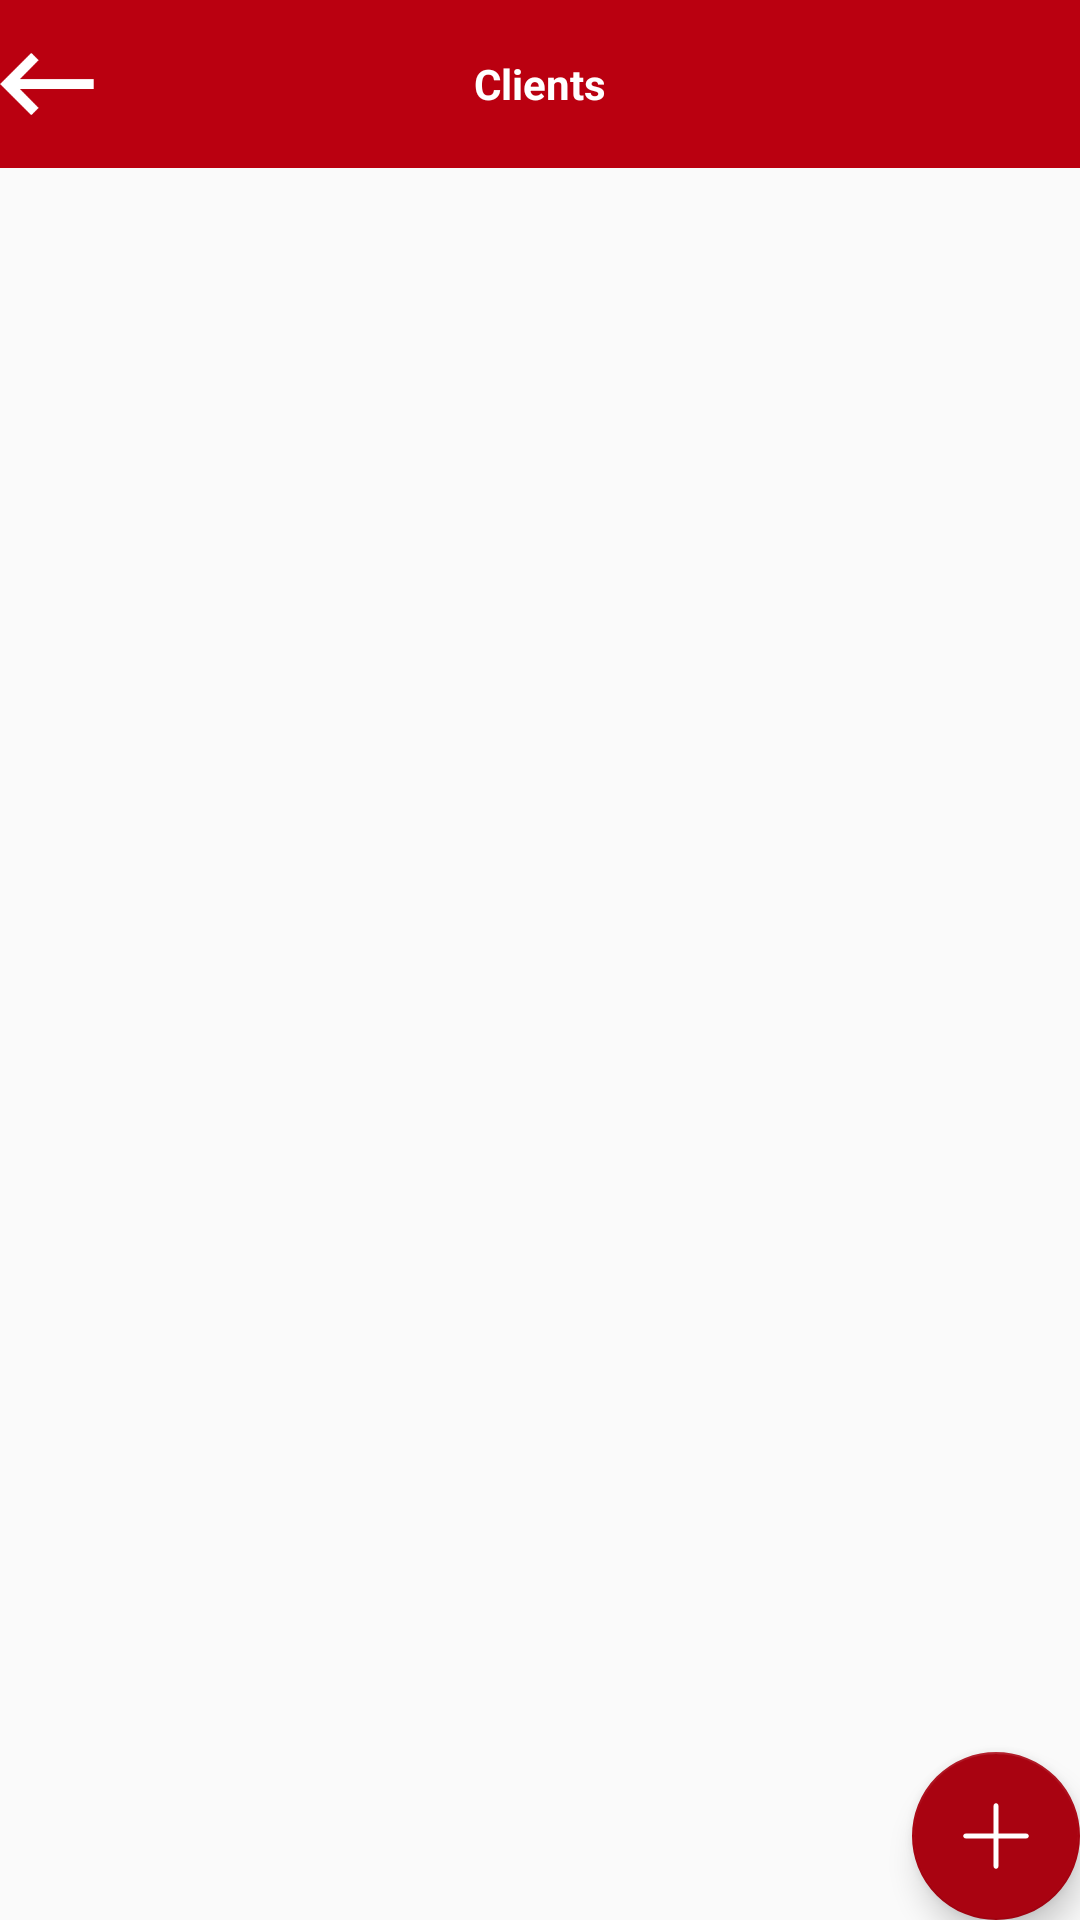

Where to tap for icons on this 1080px×1920px app screen, as point (x, y):
back: point (47, 84)
plus: point (996, 1836)
